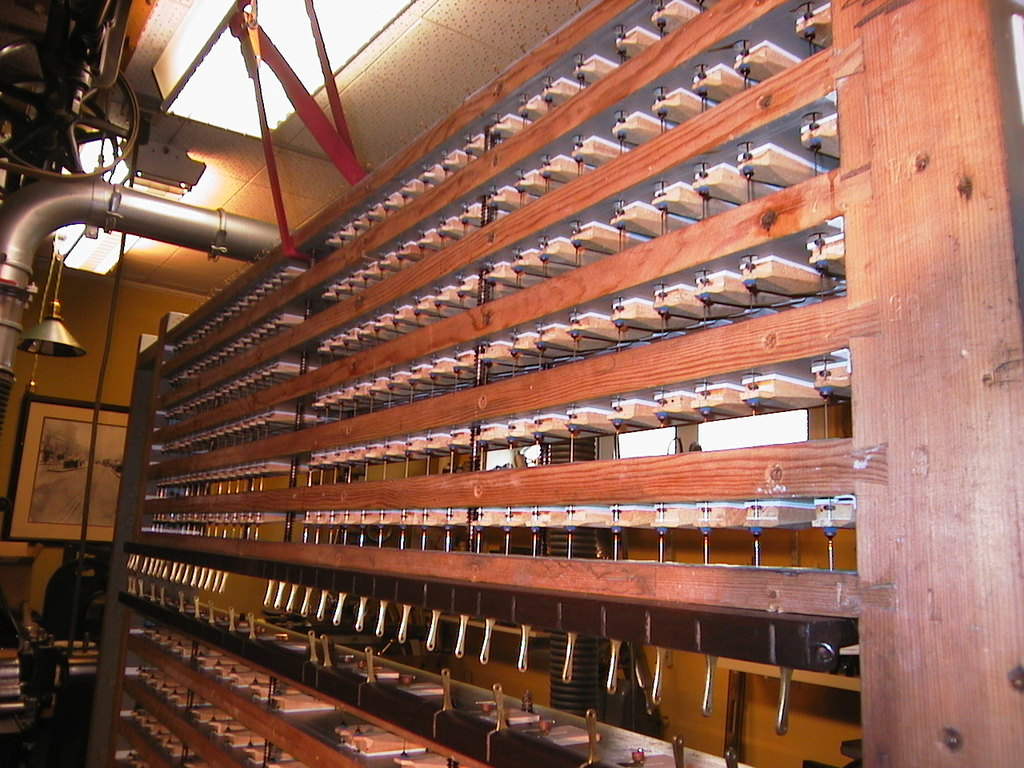person: (688, 59, 752, 107)
